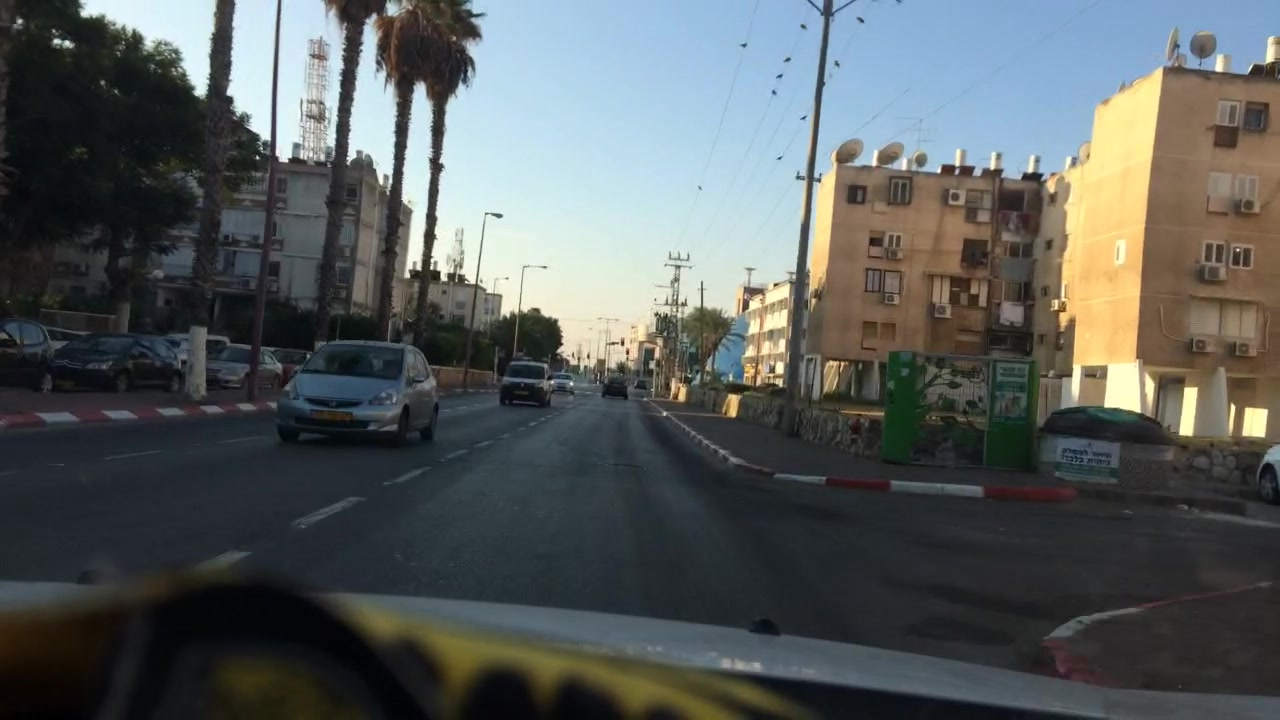licence: (309, 408, 353, 423)
